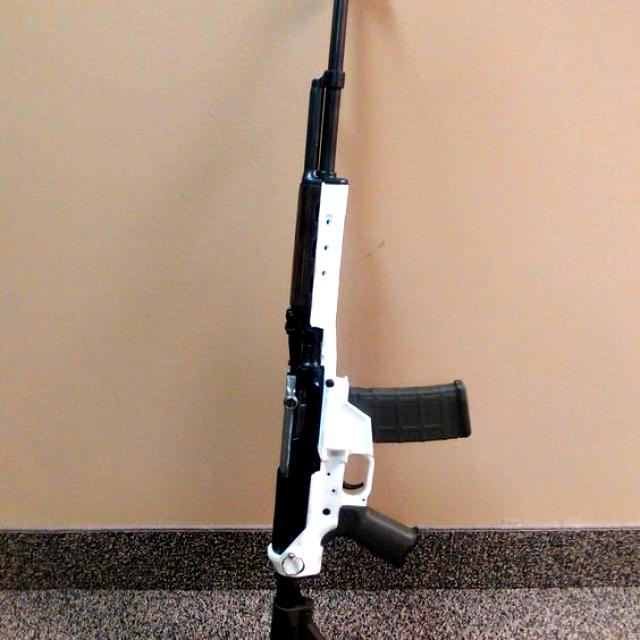shotgun: (253, 0, 481, 640)
